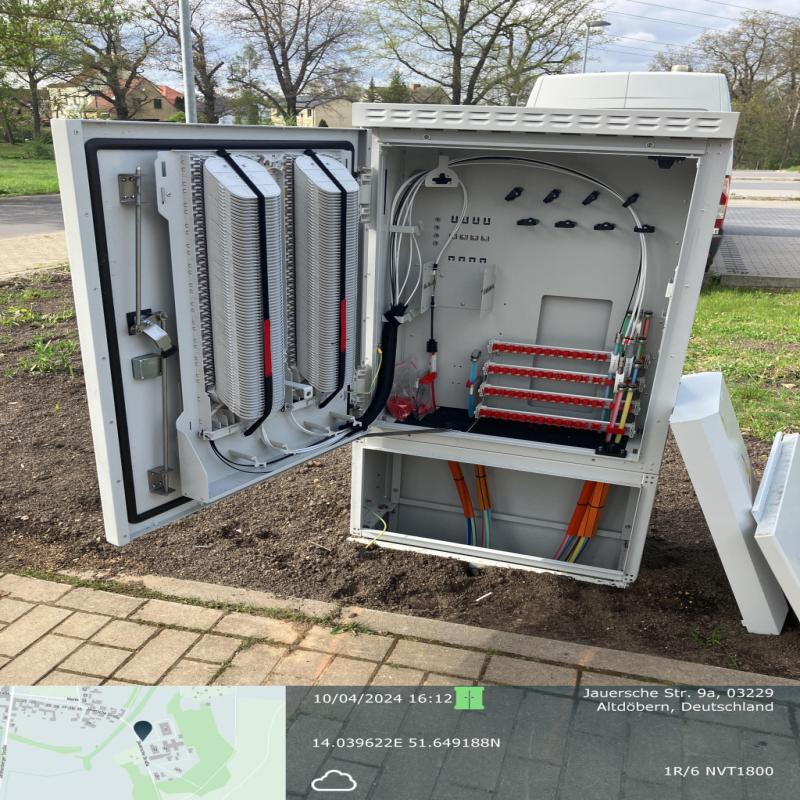NT-Gehause: (52, 103, 732, 555)
Spleiskassetten: (191, 150, 289, 422), (287, 151, 365, 396)
